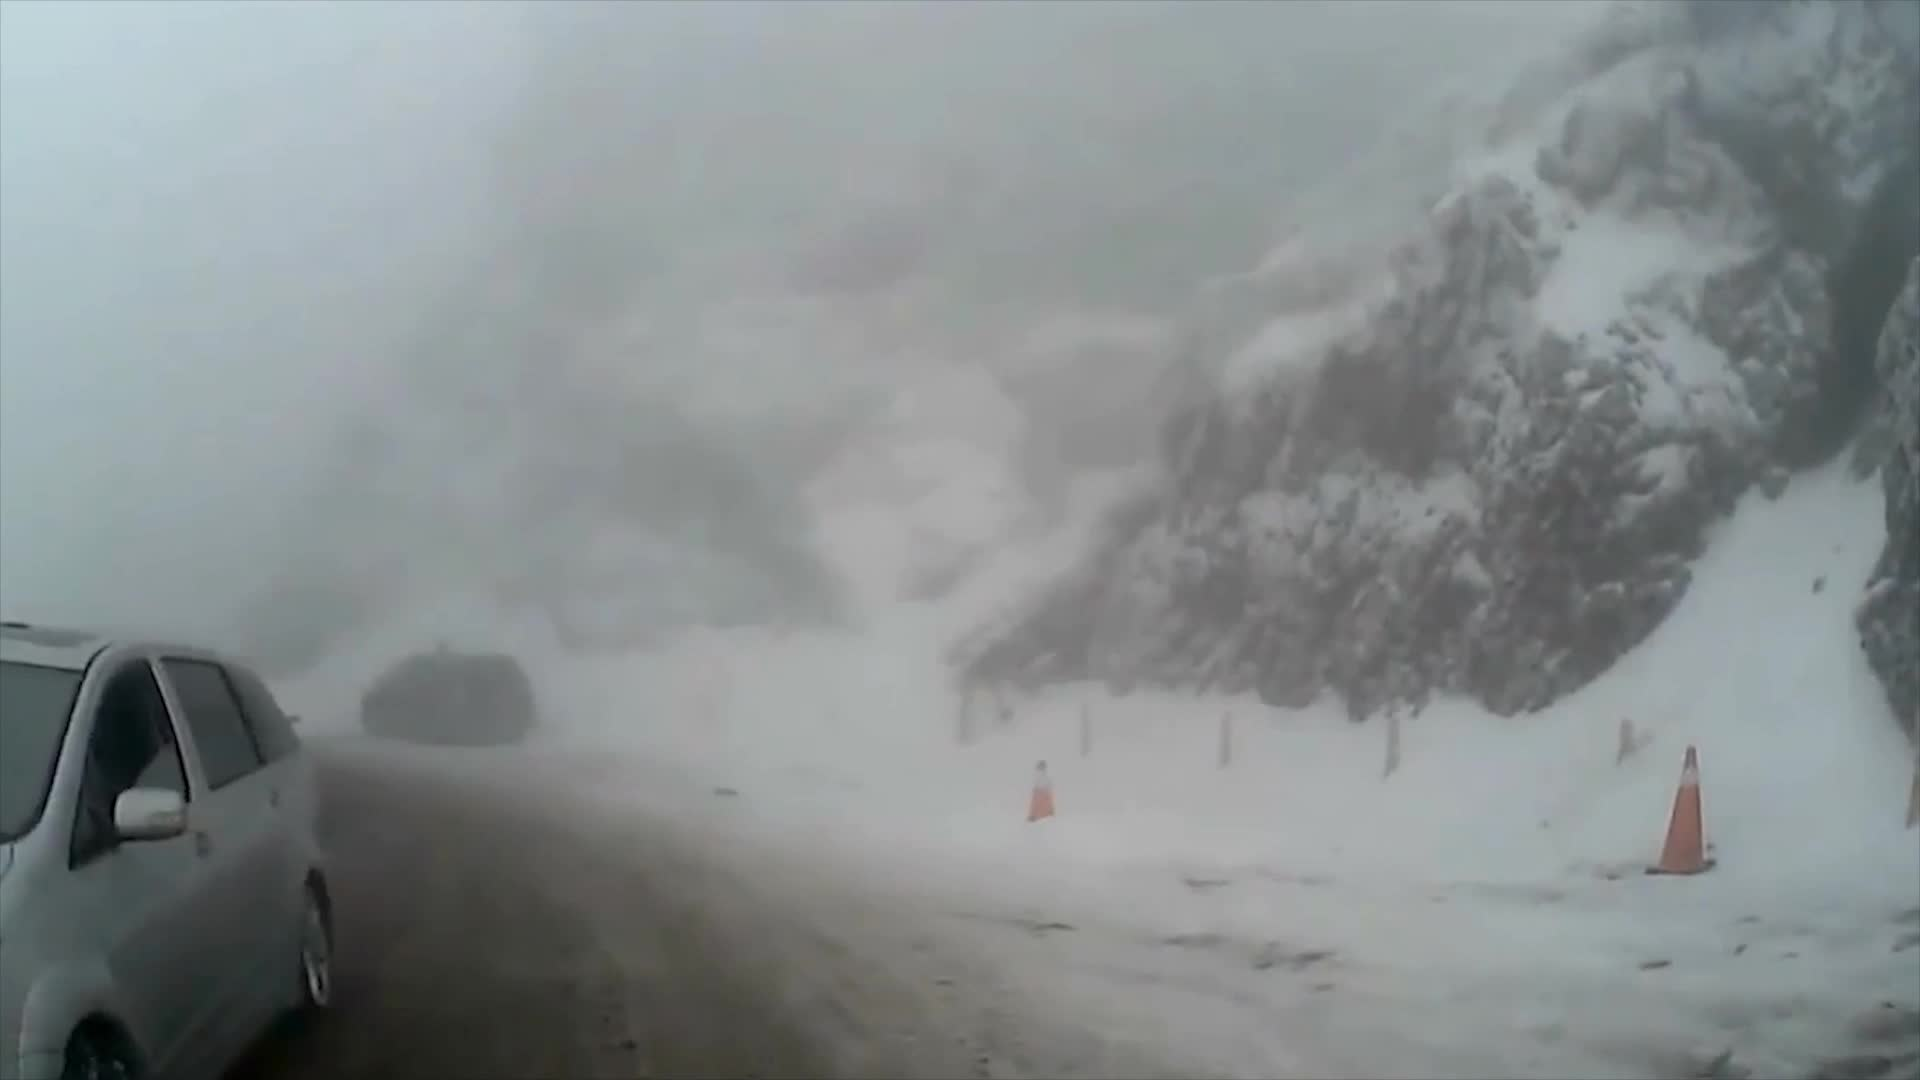vehicle: (0, 620, 343, 1079), (355, 651, 534, 752)
